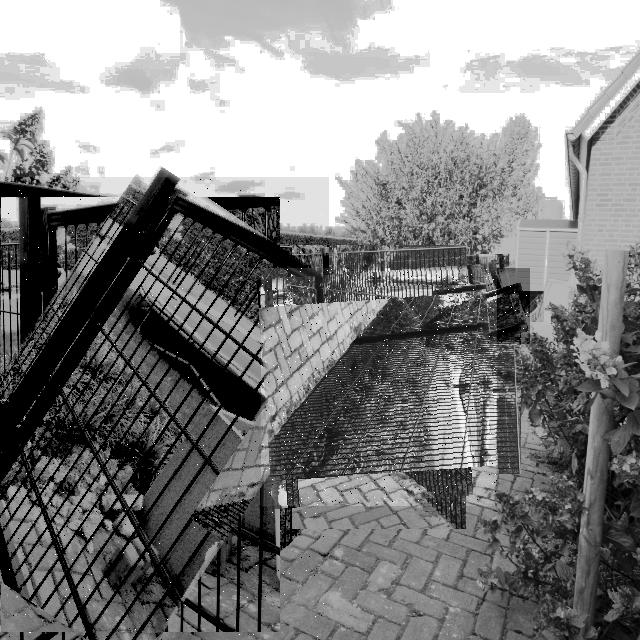fences: (0, 177, 329, 640), (261, 268, 497, 506), (454, 268, 530, 344)
